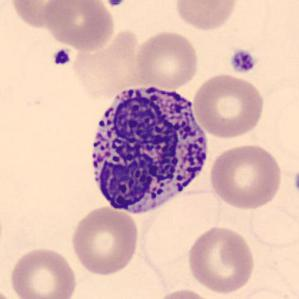Basophil: (81, 76, 214, 221)
Platelets: (228, 48, 258, 75), (52, 48, 72, 66), (105, 0, 127, 8)
RBC: (136, 183, 225, 272), (69, 204, 141, 278), (207, 142, 284, 211), (190, 72, 267, 140), (185, 223, 257, 295), (72, 32, 144, 96), (134, 29, 201, 90), (7, 245, 79, 299), (44, 0, 116, 51), (244, 197, 297, 255), (172, 0, 240, 32), (7, 0, 78, 29), (234, 284, 296, 299), (152, 286, 216, 299), (0, 284, 21, 299)
